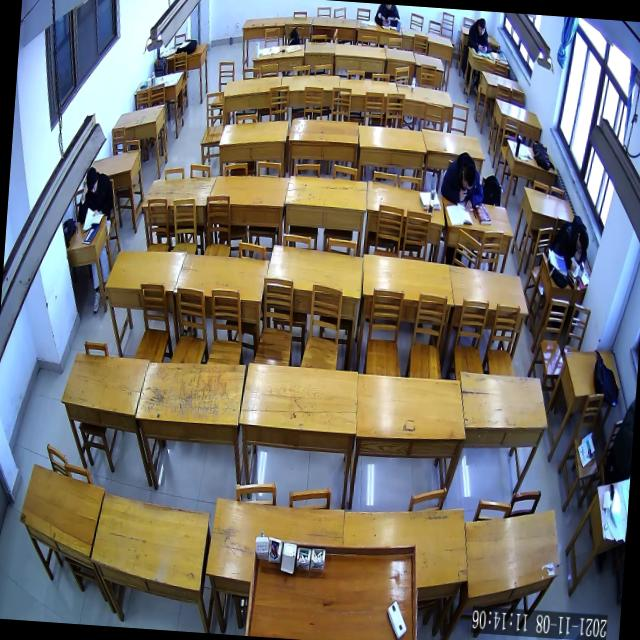bow: (438, 148, 487, 214)
down: (84, 165, 100, 198), (460, 164, 476, 194), (574, 226, 590, 256), (476, 18, 486, 38)
sit: (549, 212, 591, 274), (75, 164, 116, 227), (466, 16, 492, 54)
